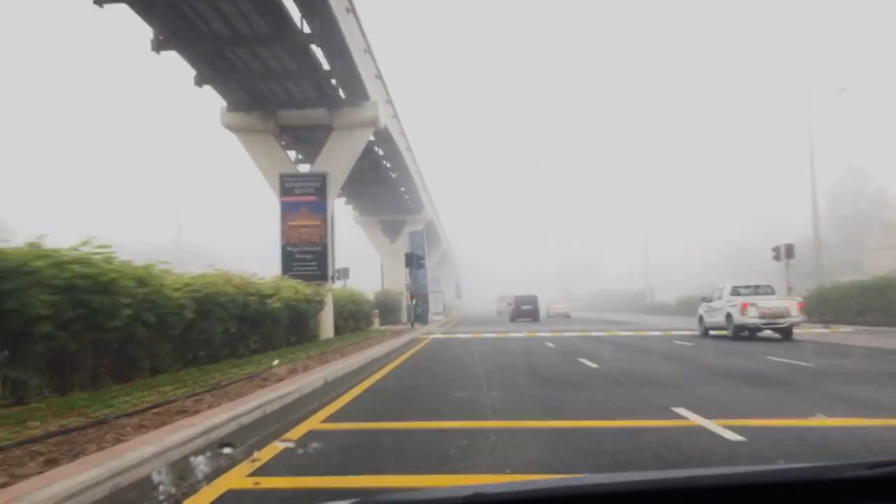bus: (494, 293, 518, 316)
car: (693, 282, 808, 342), (507, 294, 541, 324), (545, 298, 573, 319)
